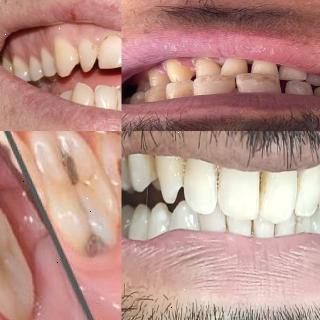maligned: (75, 42, 99, 72), (92, 84, 118, 110), (283, 81, 317, 97), (279, 68, 305, 82), (112, 91, 121, 113)
stains: (174, 157, 190, 187), (144, 152, 159, 178), (258, 168, 268, 198), (214, 165, 222, 192), (248, 218, 258, 238), (224, 215, 230, 233)
